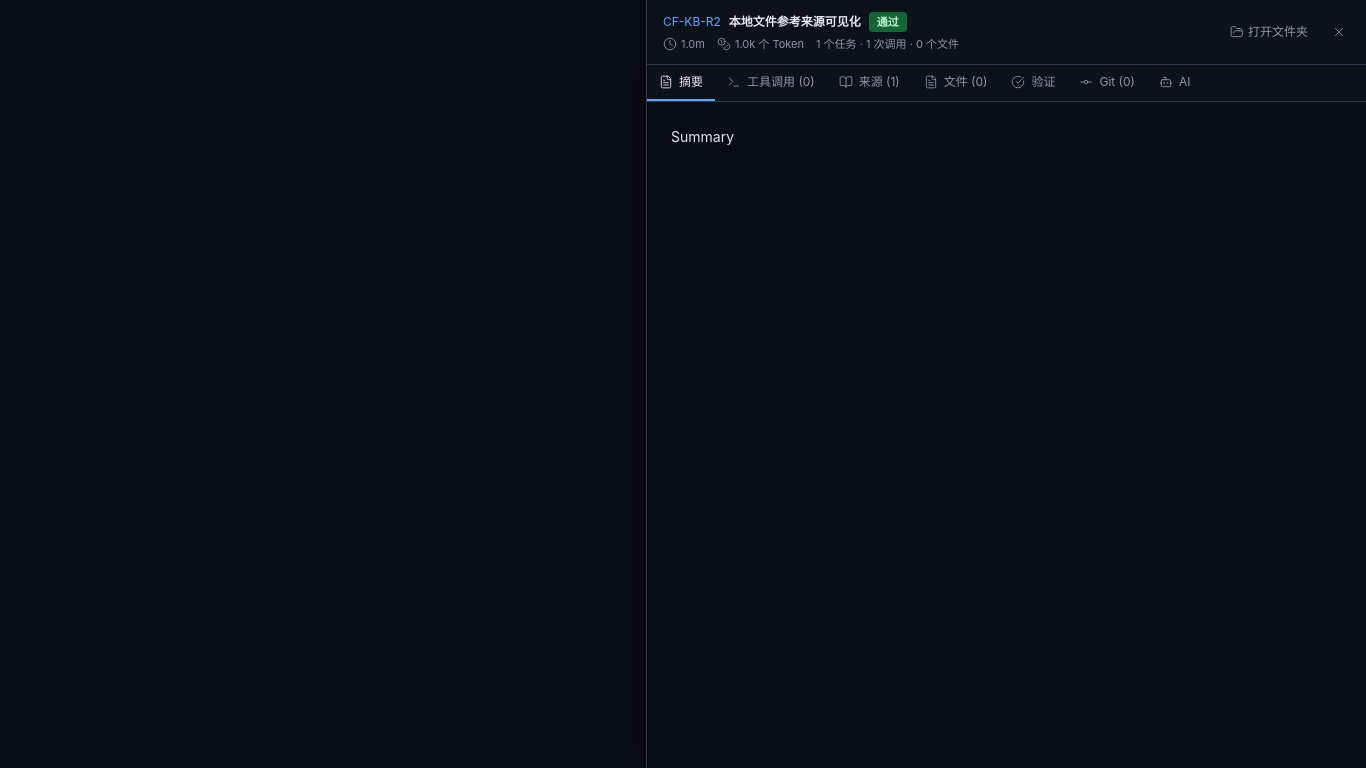
Scenario: EvidenceViewer knowledge refs › shows retrieved local file refs in a Sources tab
Expected: the text "CF-KB-R2" is shown, [663,13,721,31]
What coordinates should you click on to do the following:
click the button "来源 (1)"
I would click on:
 (869, 83)
Its box is [827,65,912,101].
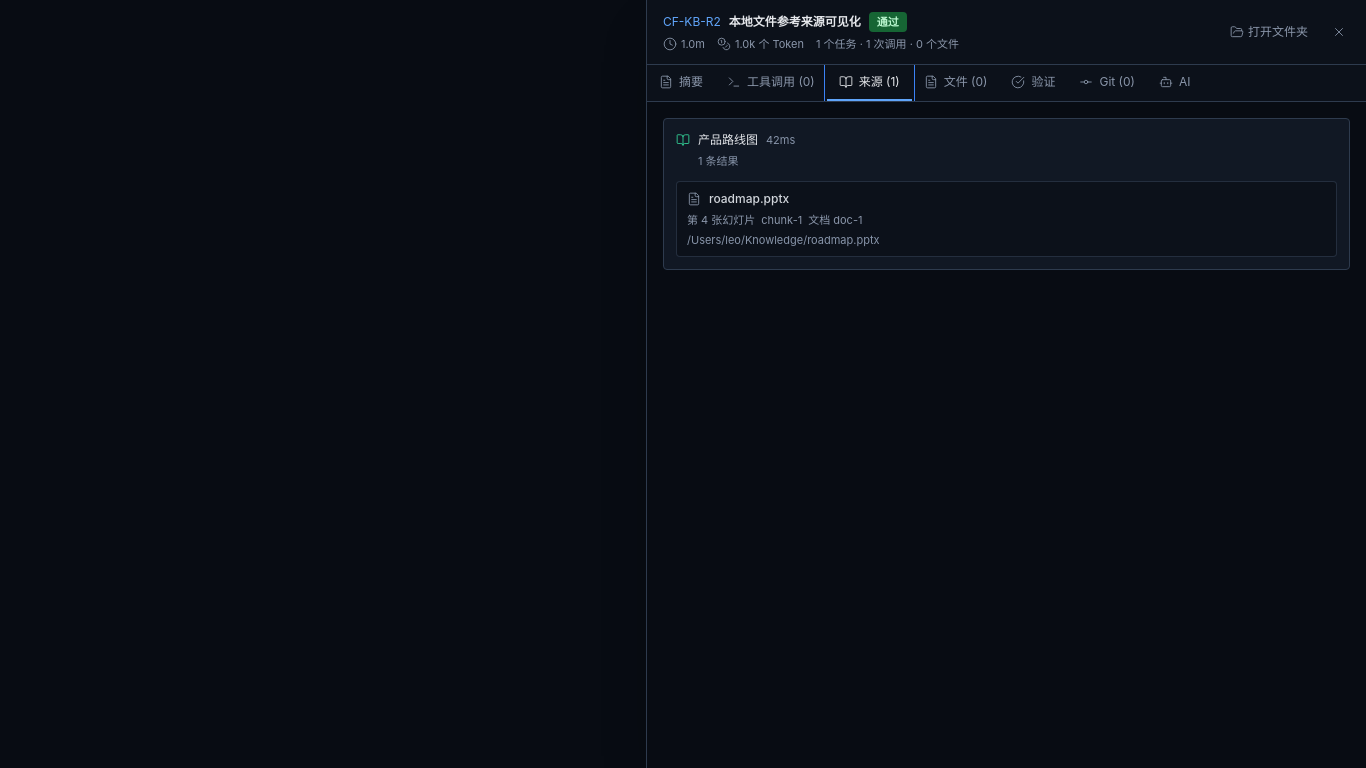
Expected: the text "产品路线图" is shown, [698,131,758,149]
Expected: the text "roadmap.pptx" is shown, [709,190,789,208]
Expected: the text "第 4 张幻灯片" is shown, [687,212,755,228]
